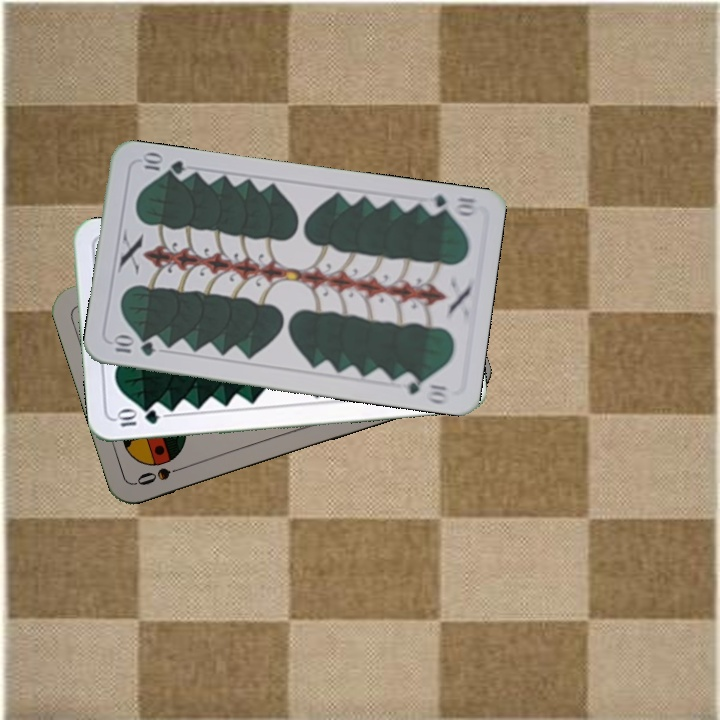G10: (419, 190, 479, 219), (108, 333, 158, 359), (112, 406, 162, 429)
SO: (132, 461, 191, 488)
